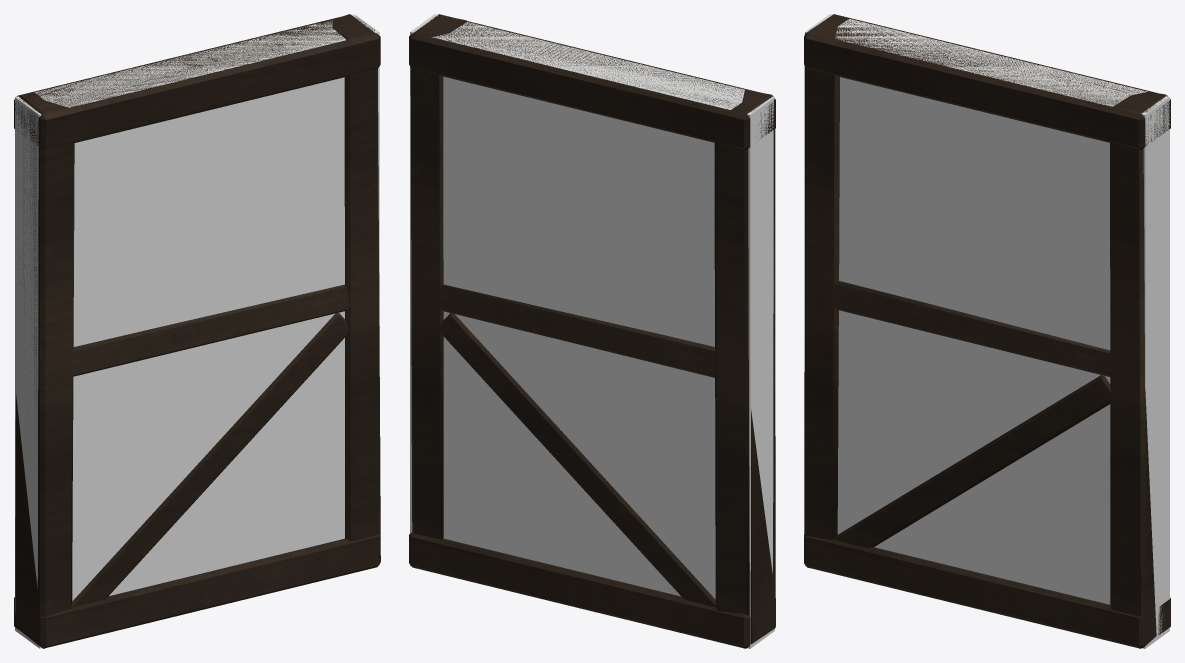
The model's file is ak_wall_timber_2x3_a.glb.
The picture shows the model from 3 angles, left to right: view 1: azimuth 30°, elevation 25°; view 2: azimuth 150°, elevation 25°; view 3: azimuth 330°, elevation 25°; orthographic projection.
Visible parts, largest first — view 1: col_wall, wall; view 2: col_wall, wall; view 3: col_wall, wall.
Part boxes in pixels (box(x1,y1,x2,y2)): col_wall: box(15, 14, 379, 648); wall: box(14, 14, 380, 648); col_wall: box(410, 14, 774, 648); wall: box(409, 14, 775, 648); col_wall: box(805, 14, 1169, 648); wall: box(804, 14, 1170, 648).
Bounding box in the file's own units: 2.01 × 3.01 × 0.31.
Materials: 2 (2 with a texture image).
